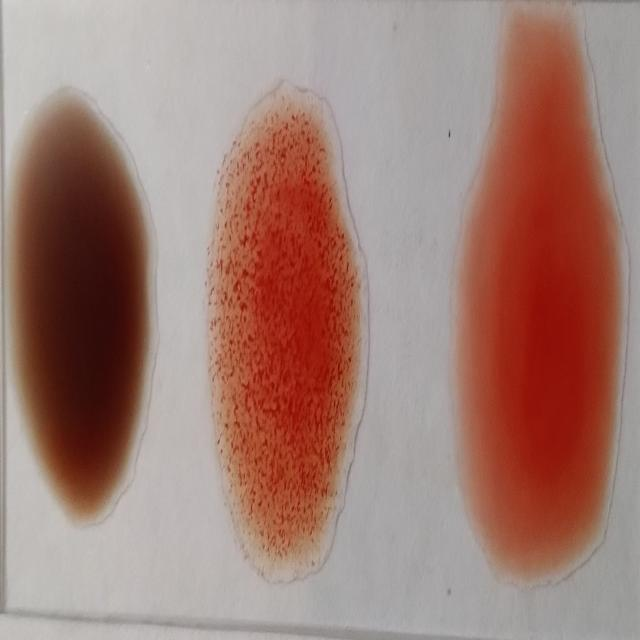B: (217, 87, 368, 603)
